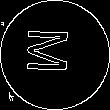M_E: (30, 32, 80, 78)
